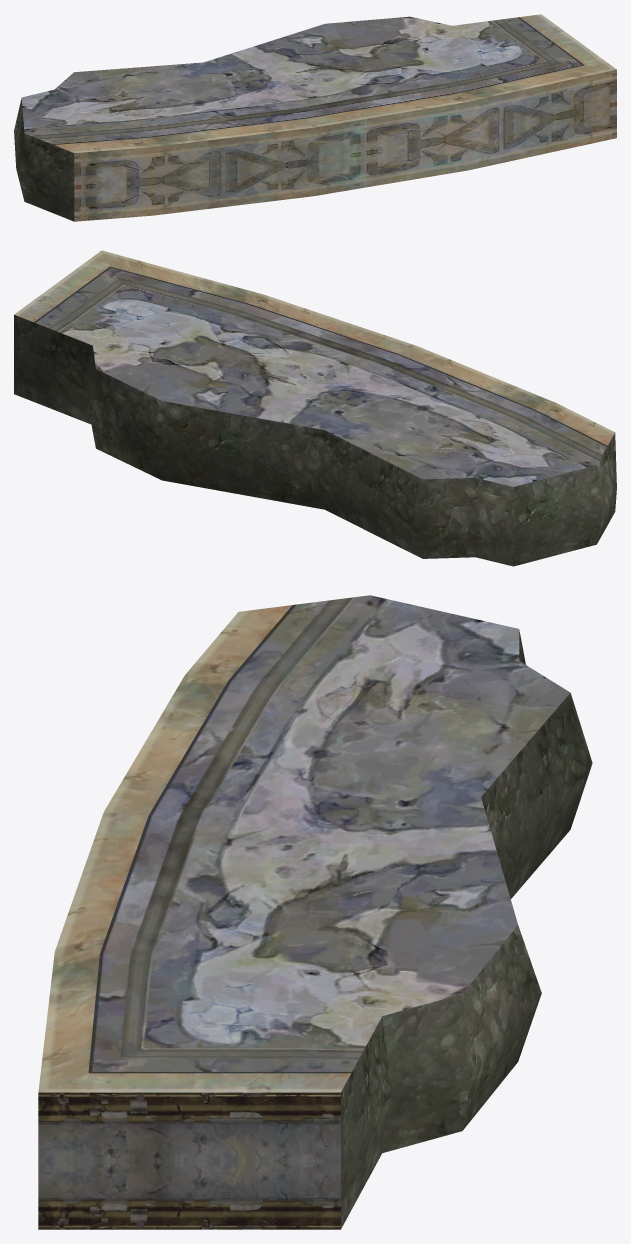
The model's file is bel_arch_rakata_raid_infernal_platform_piece04.glb.
3 renders of one model, top to bottom at view 1: azimuth 30°, elevation 25°; view 2: azimuth 150°, elevation 25°; view 3: azimuth 270°, elevation 25°, orthographic. The views are drawn at different scales.
Parts seen in each view (by area): view 1: bel_arch_rakata_raid_infernal_platform_piece04; view 2: bel_arch_rakata_raid_infernal_platform_piece04; view 3: bel_arch_rakata_raid_infernal_platform_piece04.
Part boxes in pixels (left/top/right/bottom): bel_arch_rakata_raid_infernal_platform_piece04: left=14, top=14, right=616, bottom=221; bel_arch_rakata_raid_infernal_platform_piece04: left=14, top=250, right=616, bottom=566; bel_arch_rakata_raid_infernal_platform_piece04: left=38, top=595, right=592, bottom=1229.
Bounding box in the file's own units: 1.58 × 0.2 × 0.7328.
Materials: 3 (3 with a texture image).
